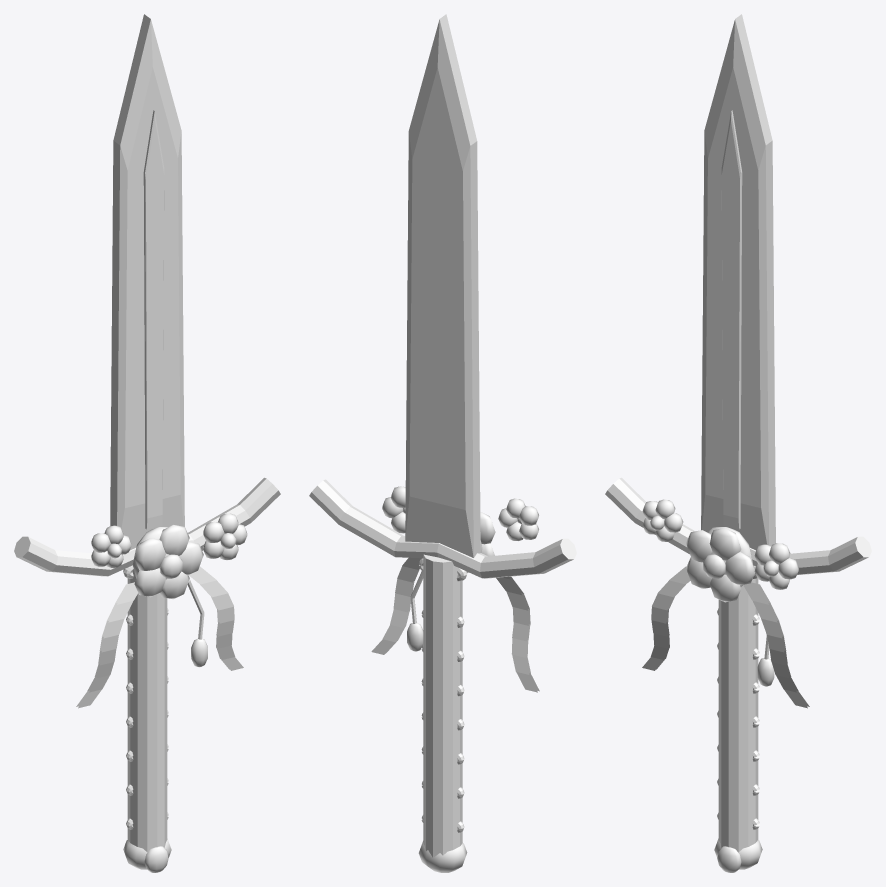
Rendered from sword.obj.
3 views of the same model, side by side, from view 1: azimuth 30°, elevation 25°; view 2: azimuth 150°, elevation 25°; view 3: azimuth 330°, elevation 25° (orthographic).
Bounding box in the file's own units: 0.3839 × 1.19 × 0.0964.
